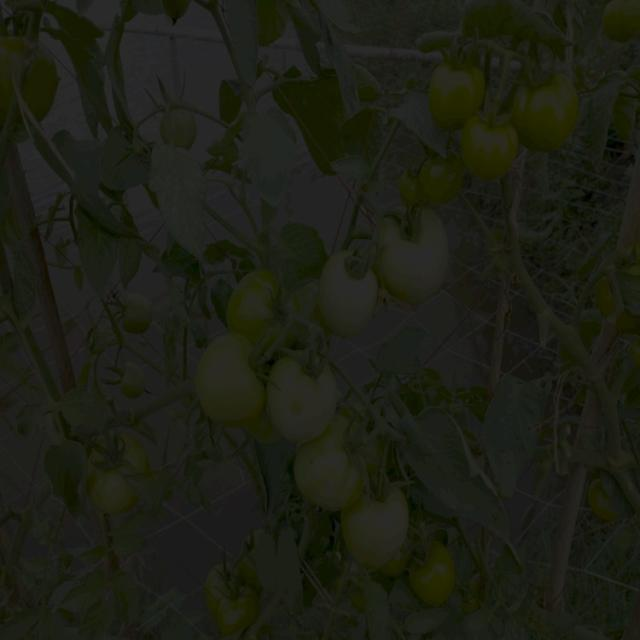tomato: (265, 346, 347, 440), (382, 202, 456, 295), (193, 333, 276, 412), (337, 492, 417, 570), (514, 73, 587, 148), (236, 272, 299, 353), (298, 431, 370, 501), (321, 252, 380, 336), (1, 42, 65, 103), (432, 59, 491, 124), (210, 562, 263, 630), (465, 114, 522, 177), (86, 447, 138, 507), (414, 542, 462, 605), (421, 150, 465, 206), (166, 104, 205, 145), (114, 296, 154, 335), (607, 1, 640, 46), (587, 479, 620, 523), (125, 365, 160, 398), (594, 282, 618, 308), (398, 169, 417, 201)
